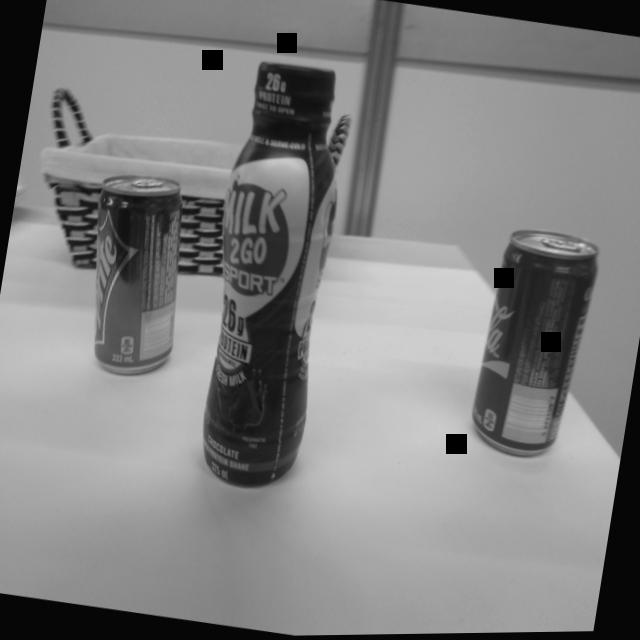chocolate_drink: (176, 53, 367, 505)
coke: (461, 217, 608, 471)
sprite: (68, 160, 203, 393)
